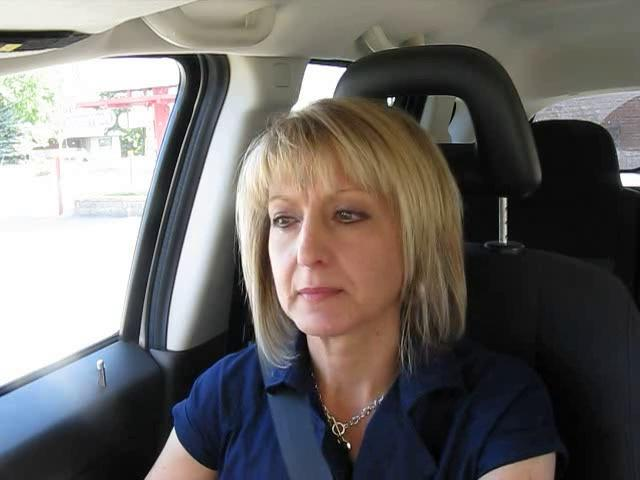no_yawn: (283, 275, 355, 313)
open_eyeL: (263, 207, 309, 239)
open_eyeR: (319, 199, 380, 235)
